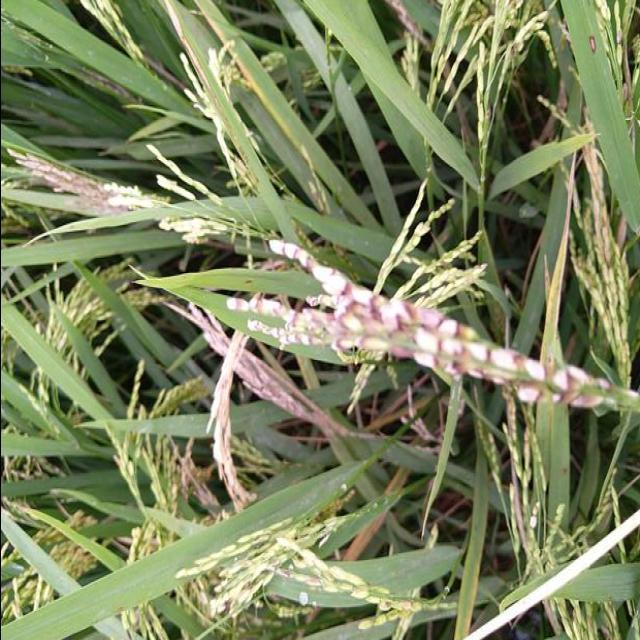Leaf Streak: (165, 0, 238, 152), (587, 33, 598, 55)
Panicle Blight: (226, 240, 608, 407), (205, 330, 249, 513), (307, 178, 326, 214), (502, 394, 516, 441), (377, 599, 417, 611), (578, 273, 598, 295), (600, 204, 611, 241), (620, 69, 632, 101), (595, 248, 614, 268), (523, 429, 532, 457), (301, 574, 321, 586), (276, 567, 294, 579), (615, 29, 623, 46)
